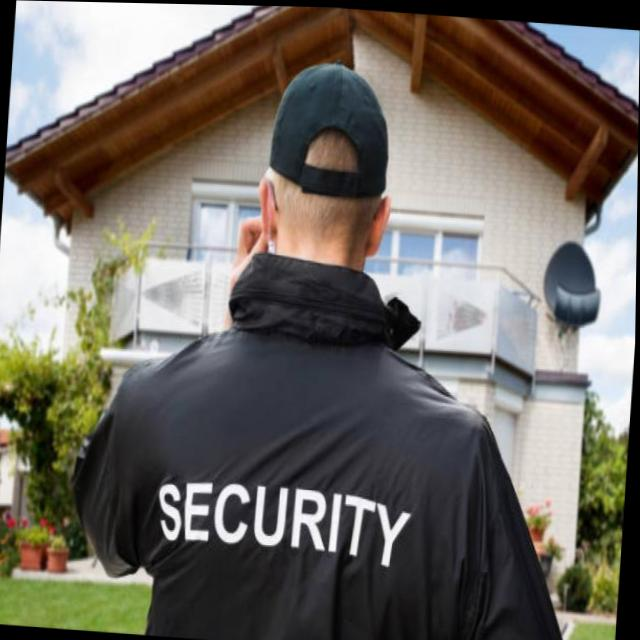no helmet: (249, 36, 402, 288)
